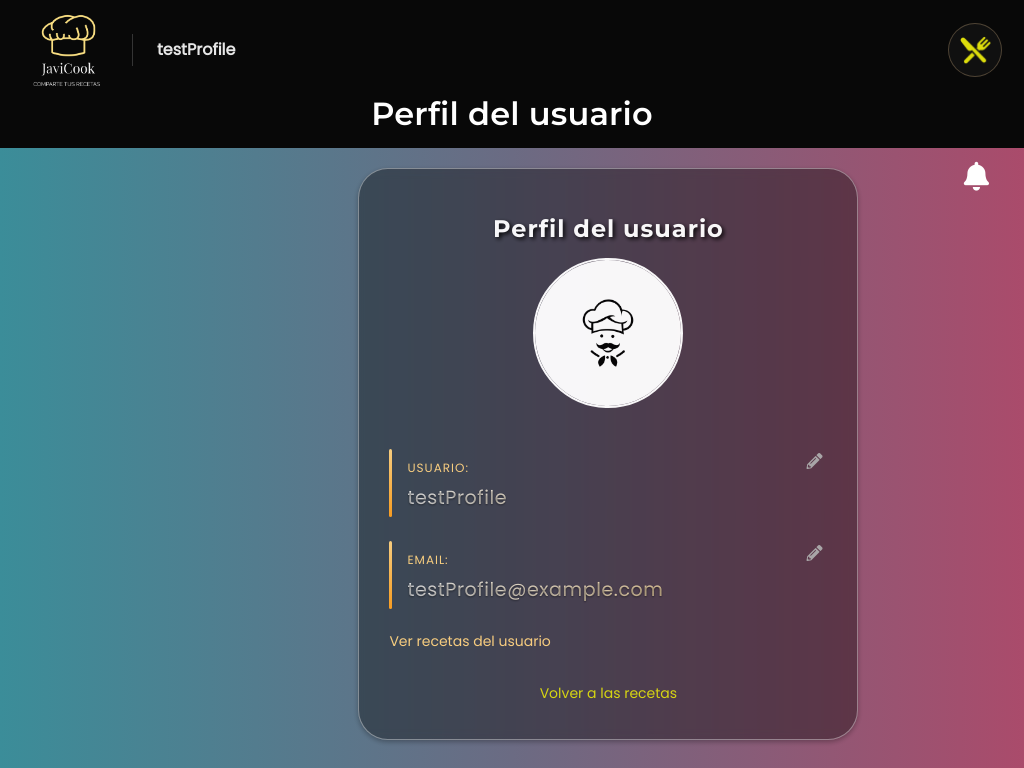
it: Verificacion de perfil de usuario › Deberia mostrar mensaje de no notificaciones en el perfil del usuario
// Verificar que se muestra el mensaje de que no hay notificaciones
Step 1. Click the icon with class "icono-notificaciones" → (977, 179), box [964, 163, 989, 194]
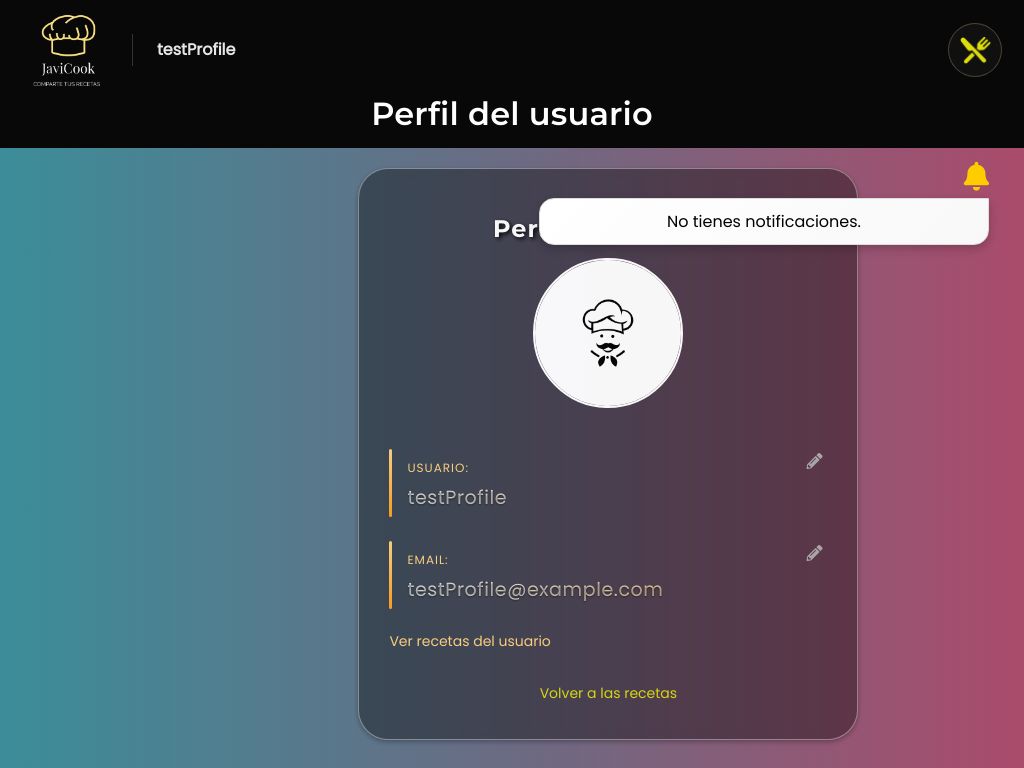
Check: the text "No tienes notificaciones." is shown, box [667, 210, 861, 233]
